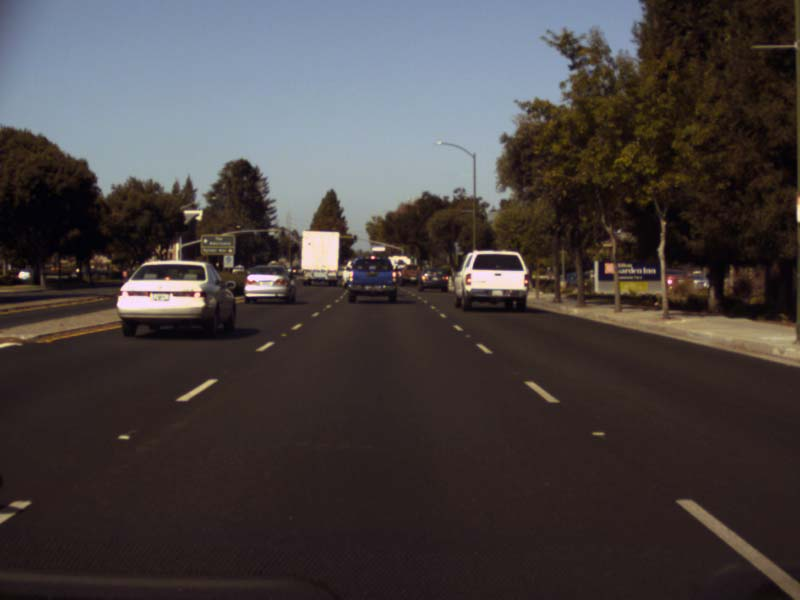Green: (353, 234, 357, 241)
